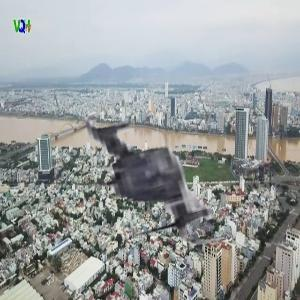drone: (59, 86, 240, 267)
